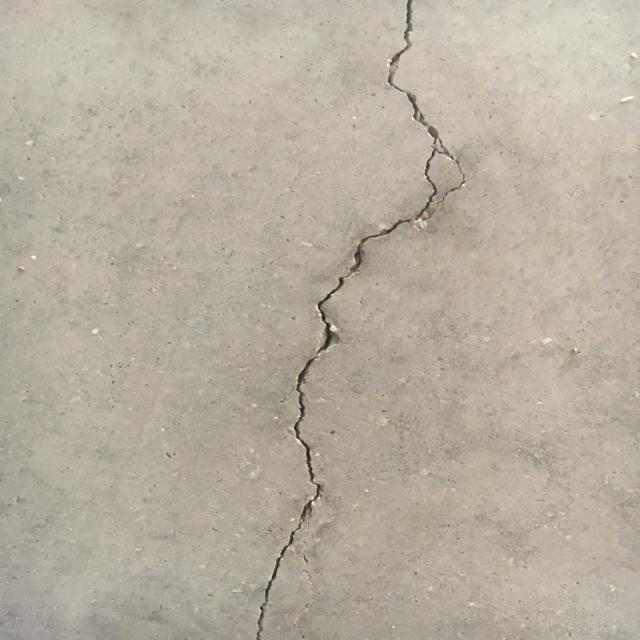Rachadura: (256, 0, 465, 640)
